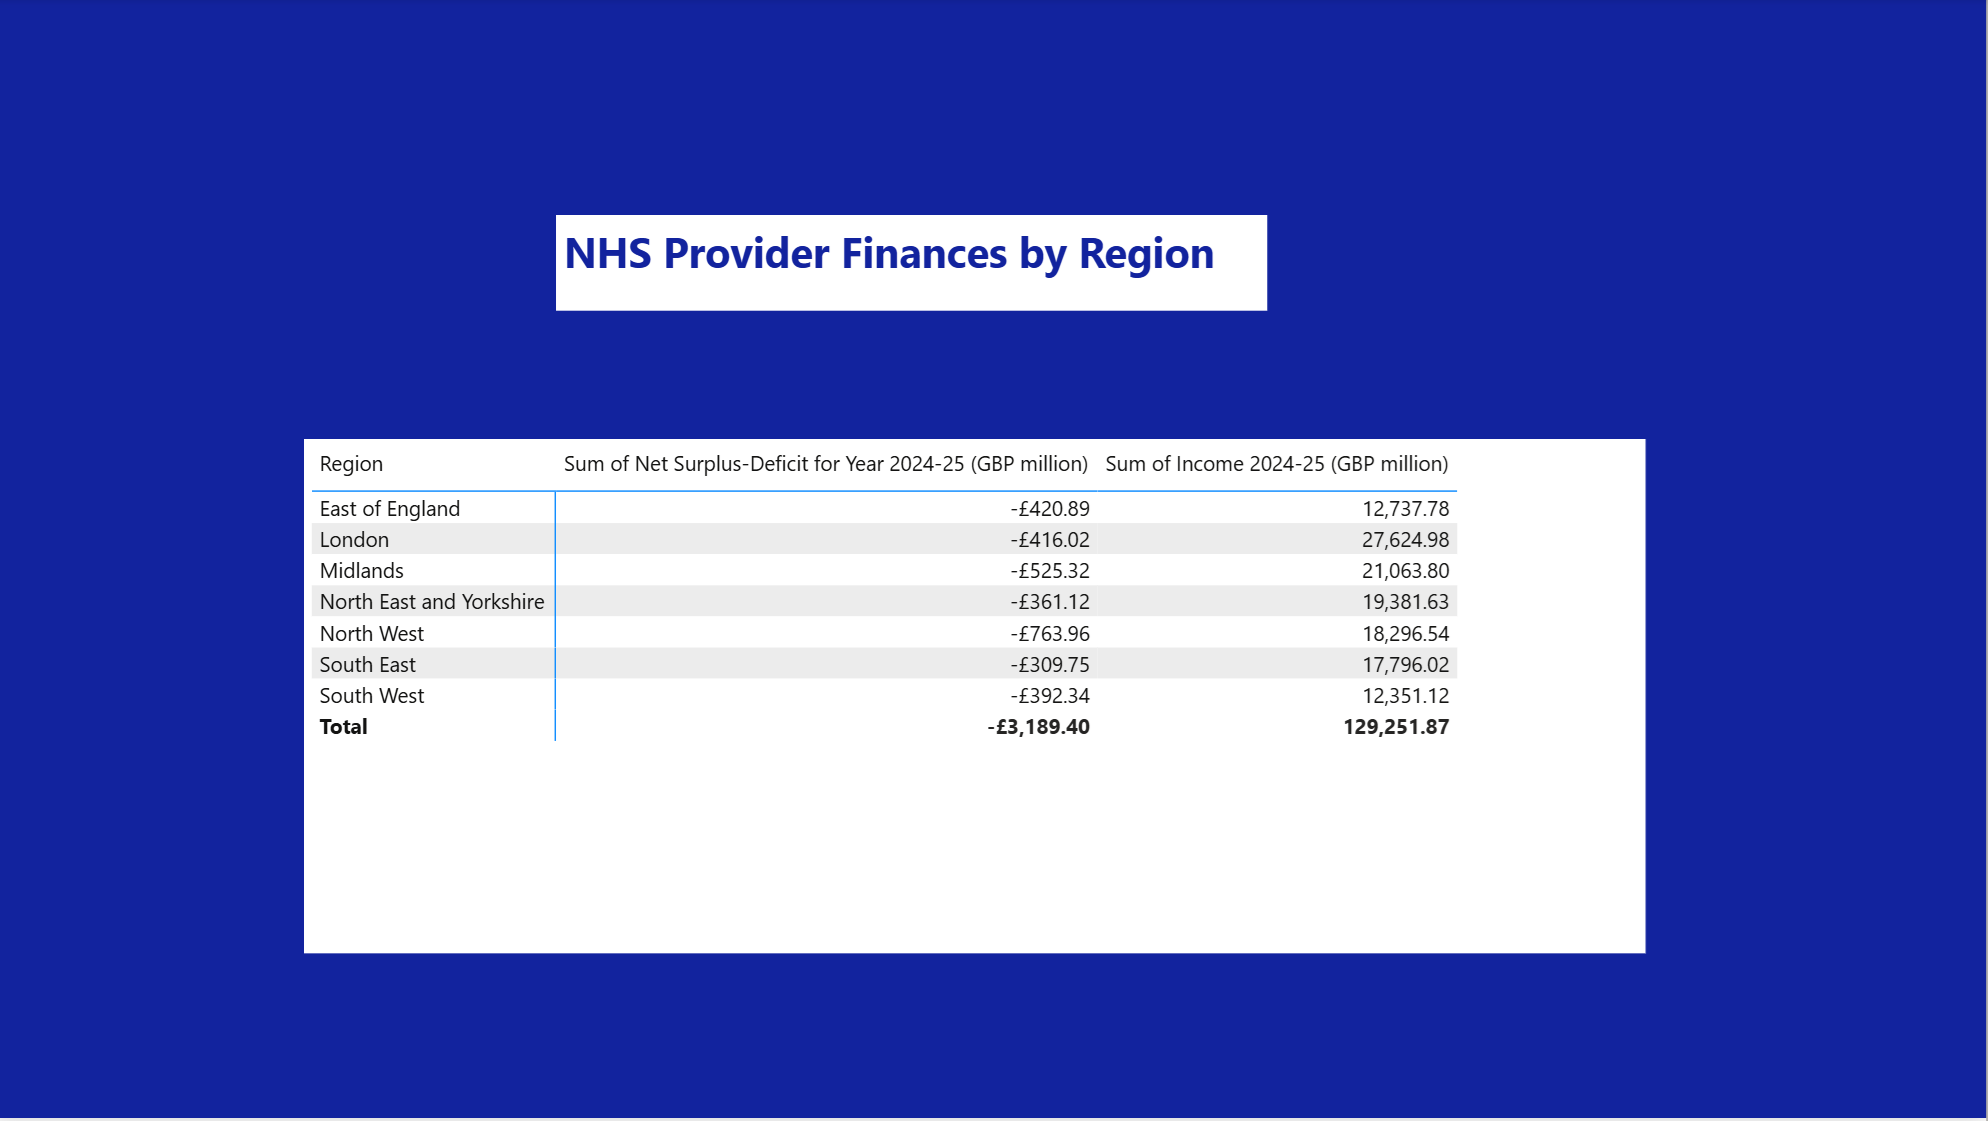

The dashboard page shown, as its layout file describes it:
{"tool":"powerbi","page":{"name":"Regional view ","canvas":[1280,720],"ordinal":4},"visuals":[{"type":"pivotTable","fields":{"Rows":["Summary by Trust.Region"],"Values":["Sum(Summary by Trust.Net Surplus-Deficit for Year 2024-25 (GBP million))","Sum(Summary by Trust.Income 2024-25 (GBP million))"]},"box":[199.8,283.7,861.8,330.3],"z":0},{"type":"textbox","box":[361,139.9,456.9,61.3],"z":1000}]}

Visuals, with their boxes in screenshot pixels (x1, y1, x2, y2), scaled from the page's 1280x720 canvas onto the 1988x1121 screenshot:
pivotTable - Summary by Trust.Region x Sum(Summary by Trust.Net Surplus-Deficit for Year 2024-25 (GBP million)): [310, 442, 1649, 956]
textbox: [561, 218, 1270, 313]
